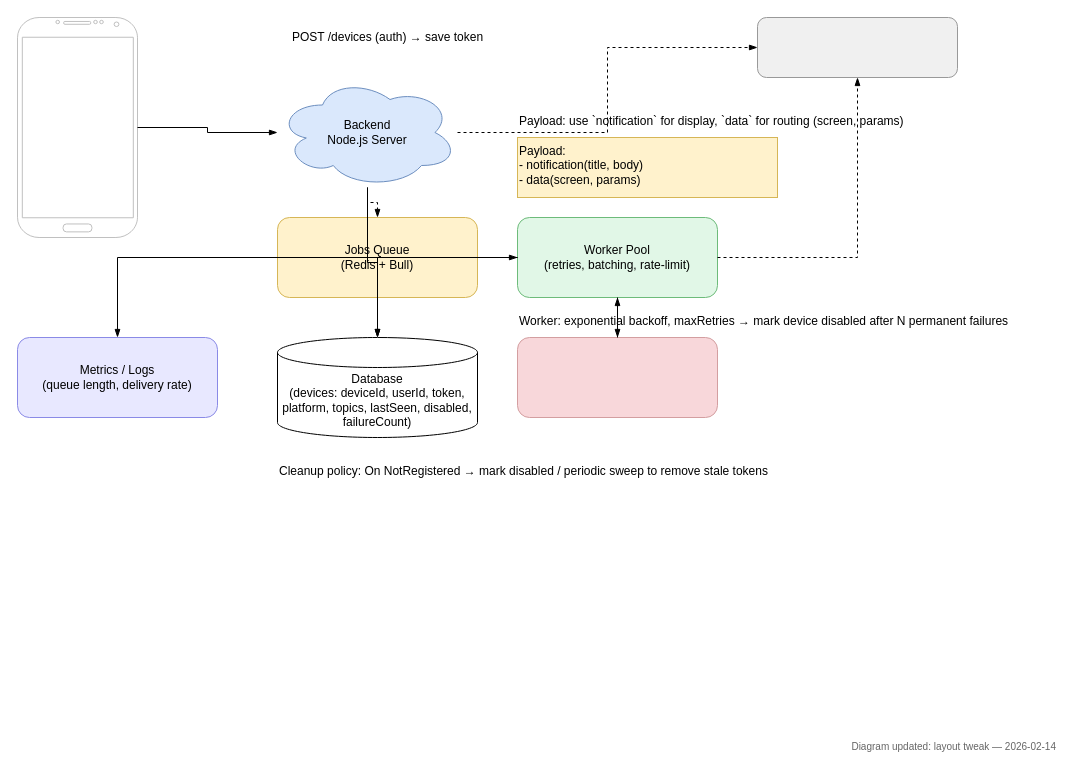
The diagram is 1075 pixels wide and 773 high, and some of its shapes have lost their labels. Here are the shapes that lost their labels. From the top down, the centre of each, then its label:
At point (857, 47): "Secrets Manager (service-account / APNs key)".
At point (77, 127): "Mobile (obtain push token)".
At point (617, 377): "FCM / APNs".
